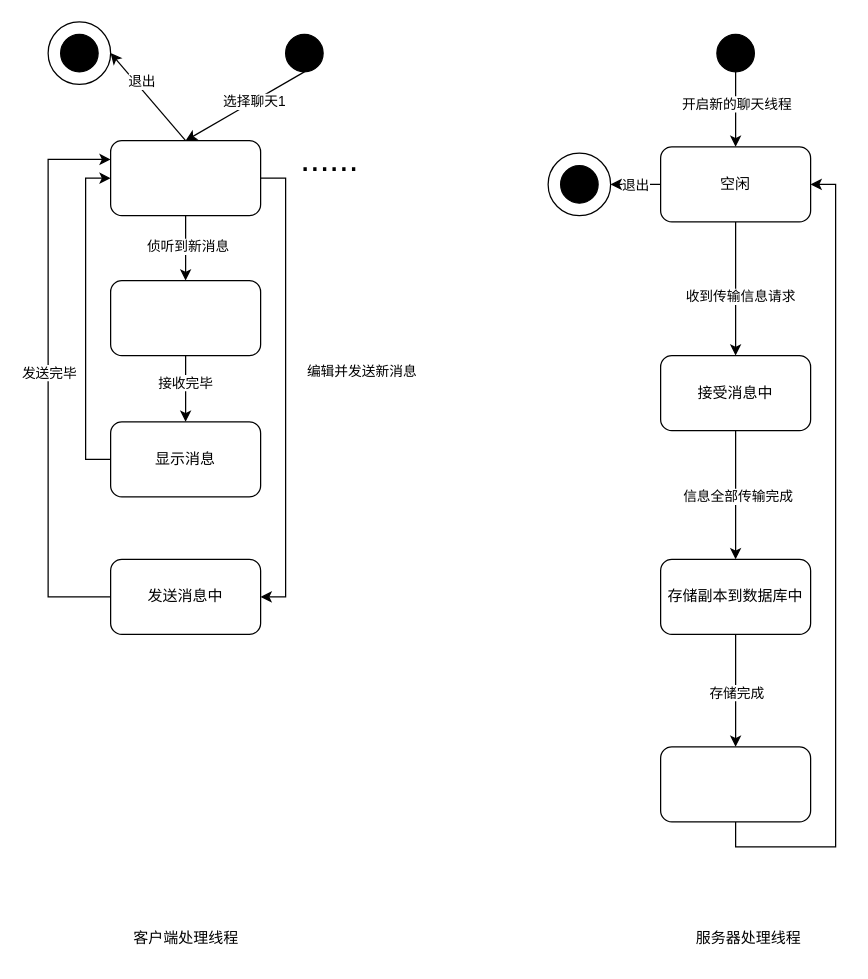
Some shapes in this 868 by 979 pixel diagram are drawn without their labels. Each missing label, with the centre of its shape:
"接收消息中" belongs at (185,317).
"聊天1空闲" belongs at (185,177).
"转发到目标用户中" belongs at (735,784).
